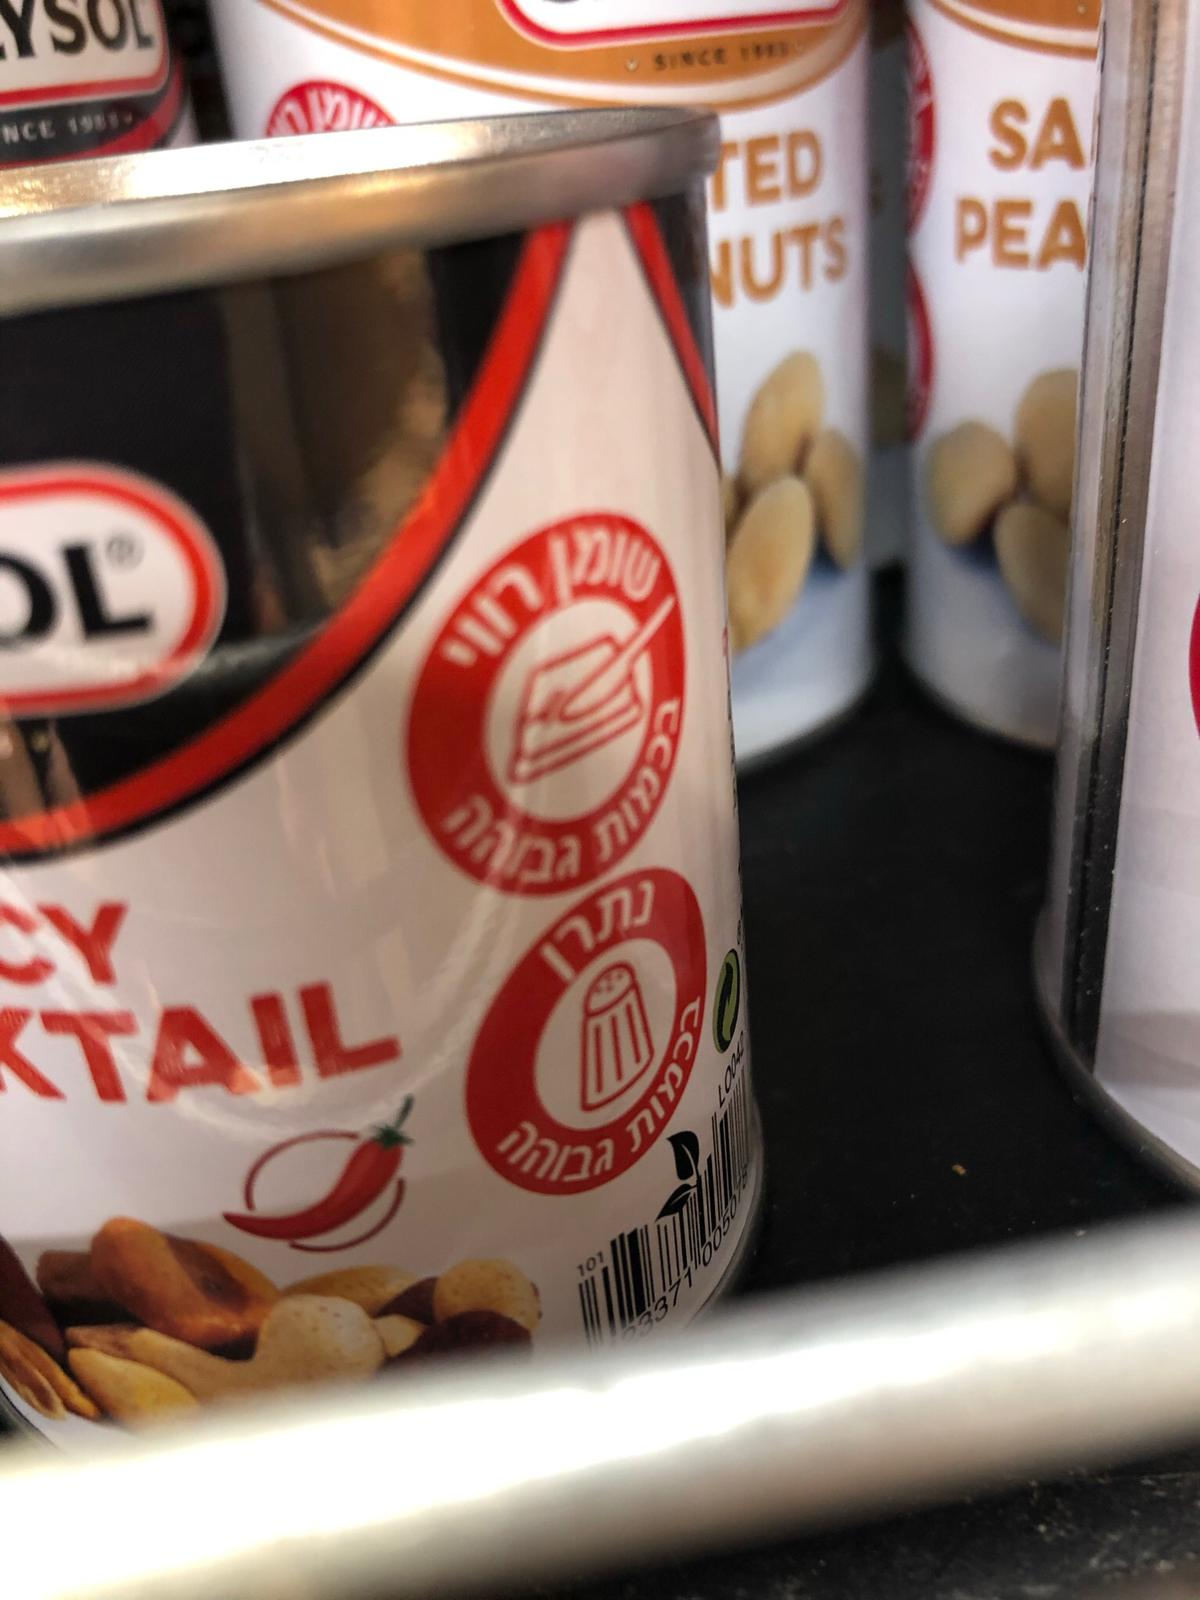fat: (407, 505, 681, 900)
salt: (461, 866, 707, 1199)
